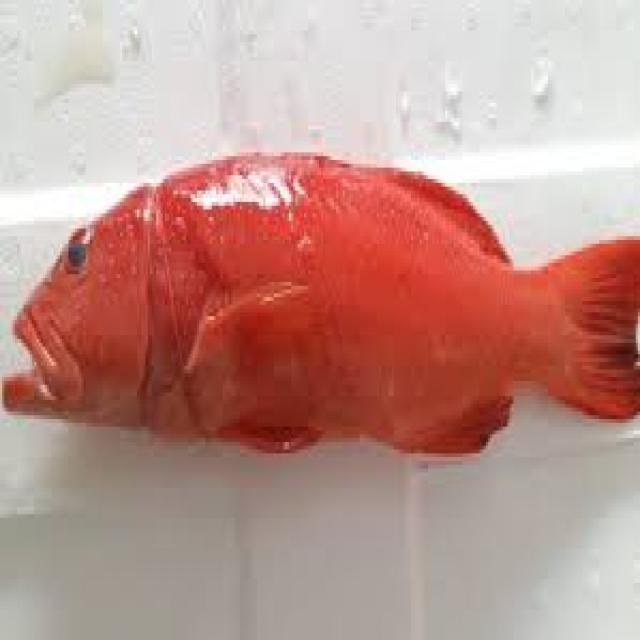Plectropomus-leopardus: (3, 123, 640, 484)
